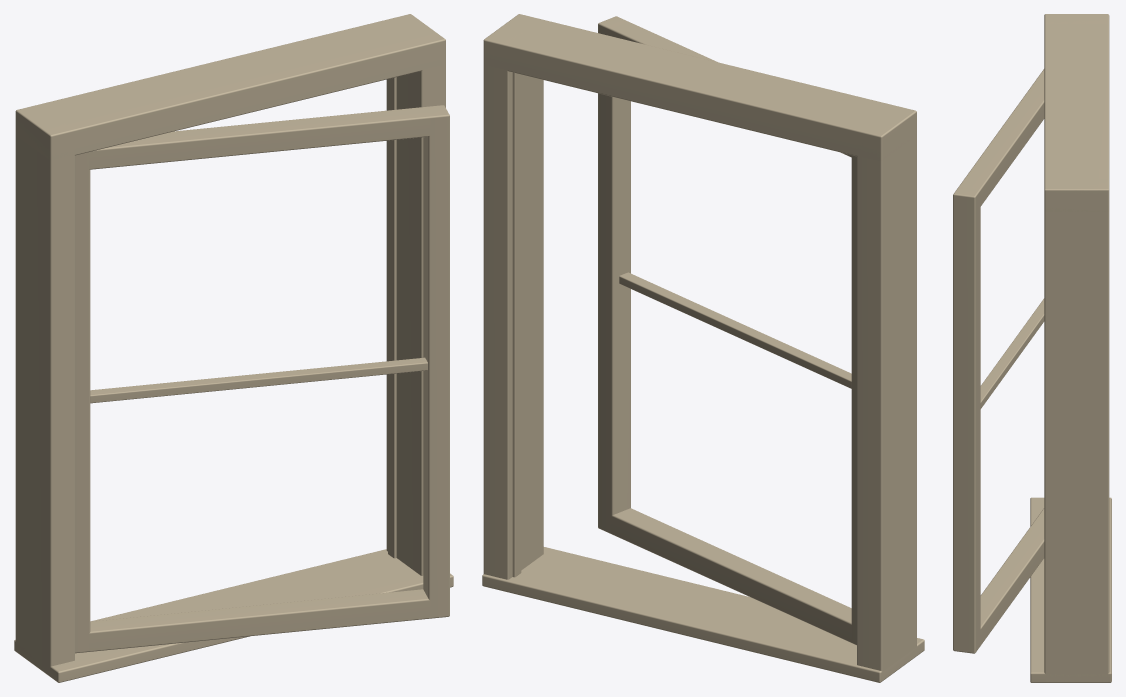
The model's file is window_frame.obj.
The picture shows the model from 3 angles, left to right: view 1: azimuth 30°, elevation 25°; view 2: azimuth 150°, elevation 25°; view 3: azimuth 270°, elevation 25°; orthographic projection. The views are drawn at different scales.
Size of the model in its own units: 0.868 by 1.14 by 0.3308.
